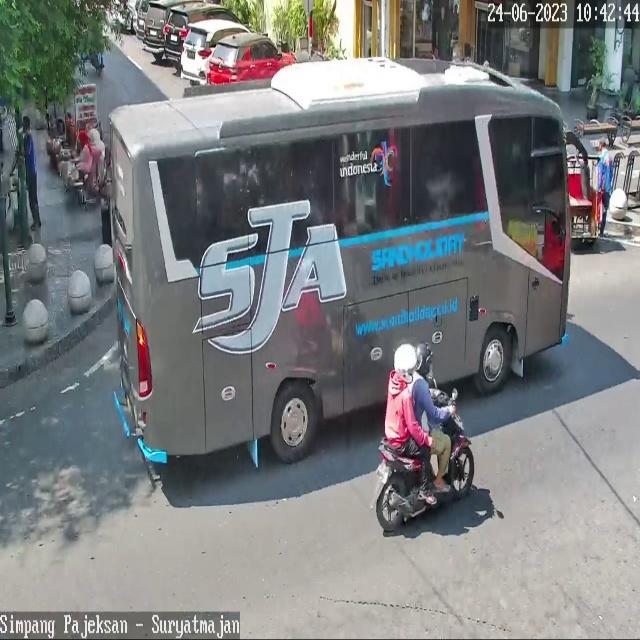bus: (378, 388, 475, 534)
car: (109, 57, 571, 466)
motorcycle: (206, 33, 300, 86), (163, 3, 246, 63), (180, 21, 252, 87), (143, 0, 169, 53)
